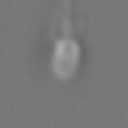abnormal: (42, 1, 94, 40)
